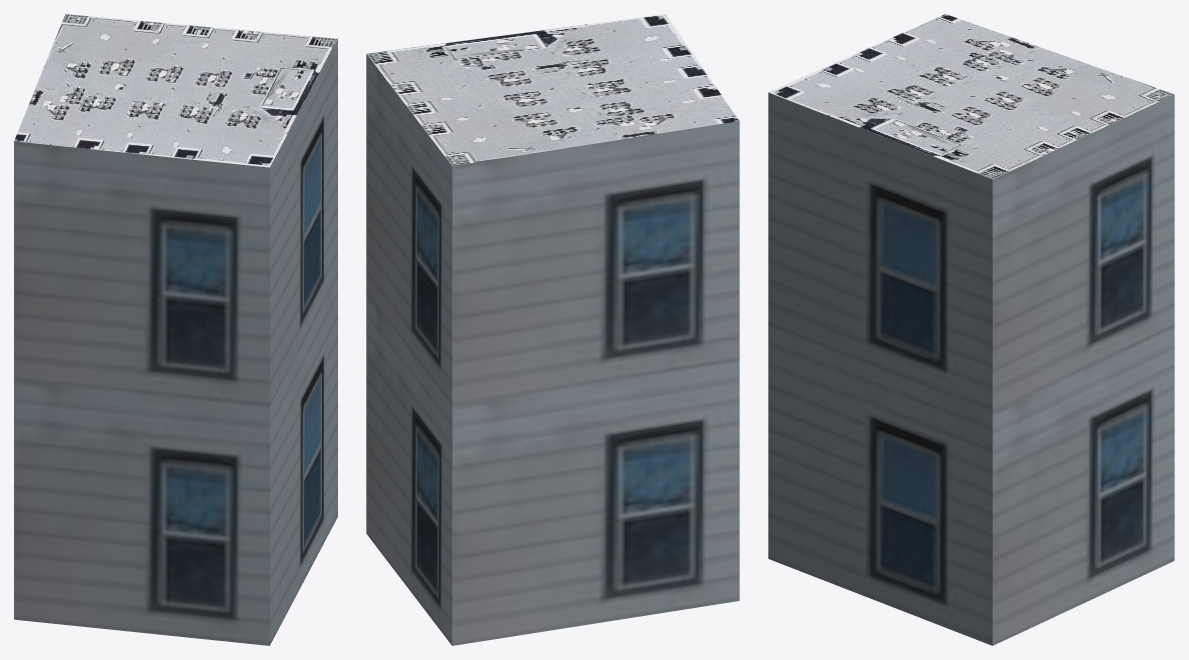
The model's file is ResTex__872.fbx.
3 views of the same model, side by side, from view 1: azimuth 30°, elevation 25°; view 2: azimuth 150°, elevation 25°; view 3: azimuth 270°, elevation 25° (orthographic). The views are drawn at different scales.
Visible parts, largest first — view 1: CityEngineMaterial_18_m, CityEngineMaterial_2_m; view 2: CityEngineMaterial_18_m, CityEngineMaterial_2_m; view 3: CityEngineMaterial_18_m, CityEngineMaterial_2_m.
Boxes of the visible parts, box(x1,y1,x2,y2) form: CityEngineMaterial_18_m: box(14, 39, 337, 645); CityEngineMaterial_2_m: box(14, 14, 337, 167); CityEngineMaterial_18_m: box(366, 54, 739, 645); CityEngineMaterial_2_m: box(366, 14, 739, 165); CityEngineMaterial_18_m: box(768, 92, 1174, 645); CityEngineMaterial_2_m: box(768, 14, 1174, 179).
Bounding box in the file's own units: 4.57 × 6 × 4.74.
Materials: 2 (2 with a texture image).
